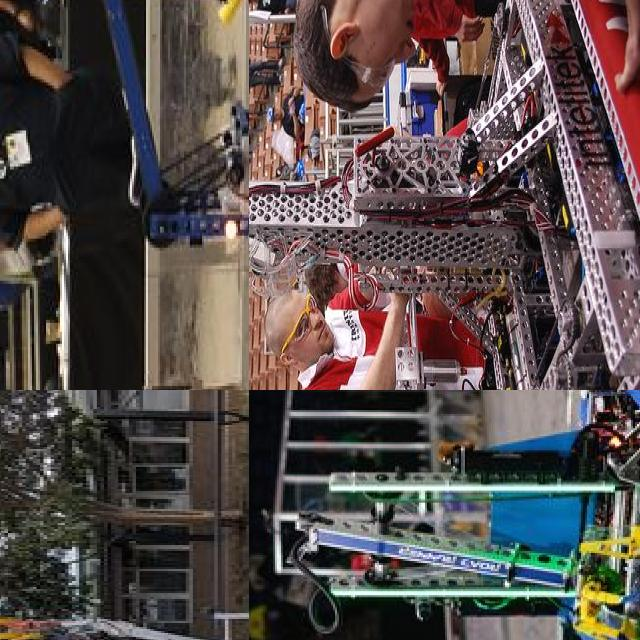FRC-Robots: (249, 0, 640, 390), (296, 390, 640, 640), (70, 0, 249, 355), (0, 510, 249, 640)
